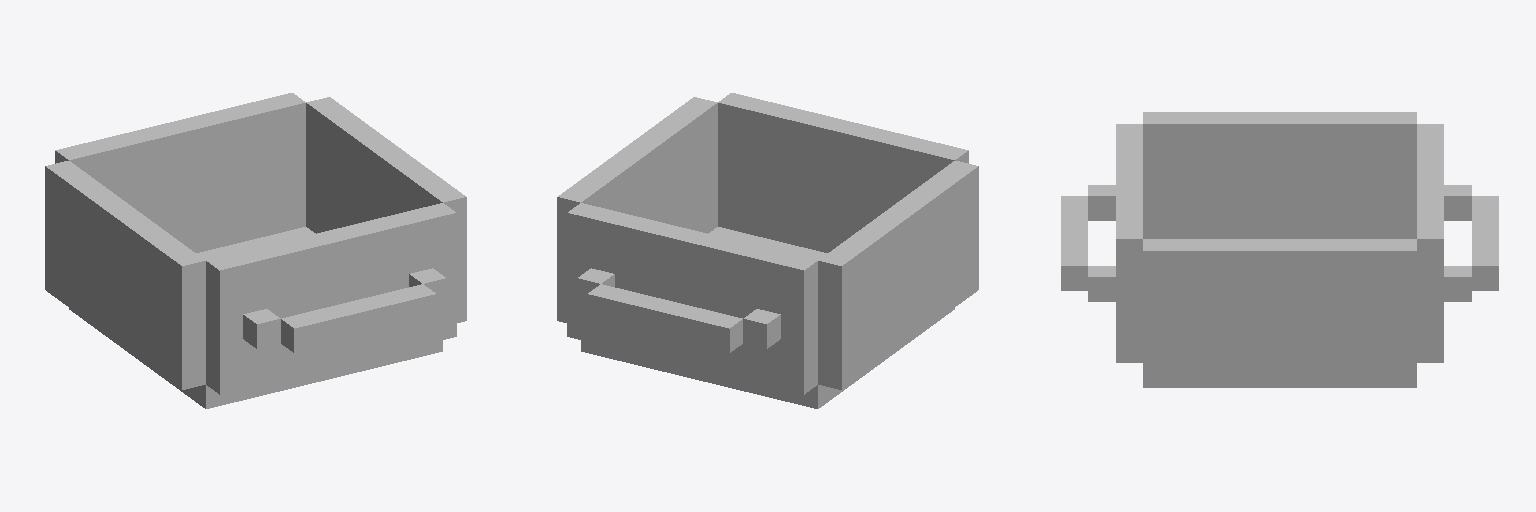
Rendered from cooking pot.obj.
3 renders of one model, left to right at view 1: azimuth 30°, elevation 25°; view 2: azimuth 150°, elevation 25°; view 3: azimuth 270°, elevation 25°, orthographic.
Visible parts, largest first — view 1: cooking pot; view 2: cooking pot; view 3: cooking pot.
Boxes of the visible parts, box(x1,y1,x2,y2) form: cooking pot: box(45, 93, 466, 408); cooking pot: box(557, 93, 978, 408); cooking pot: box(1061, 112, 1498, 387).
Bounding box in the file's own units: 12 × 6 × 16.